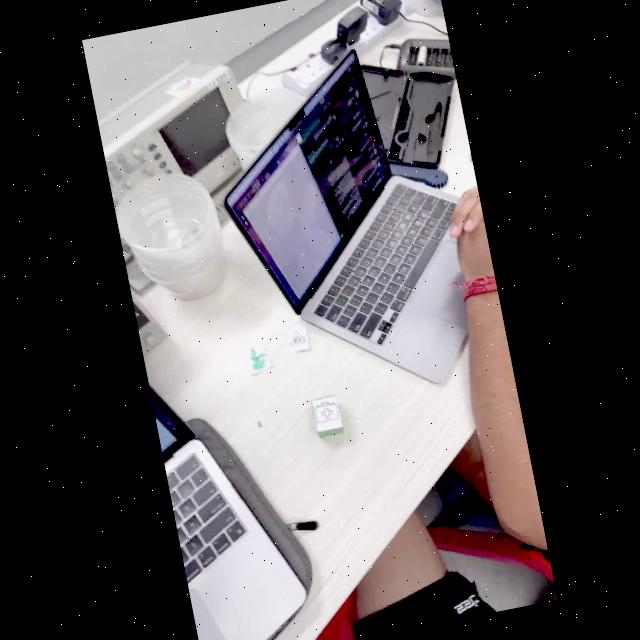Medkit: (316, 400, 340, 424)
